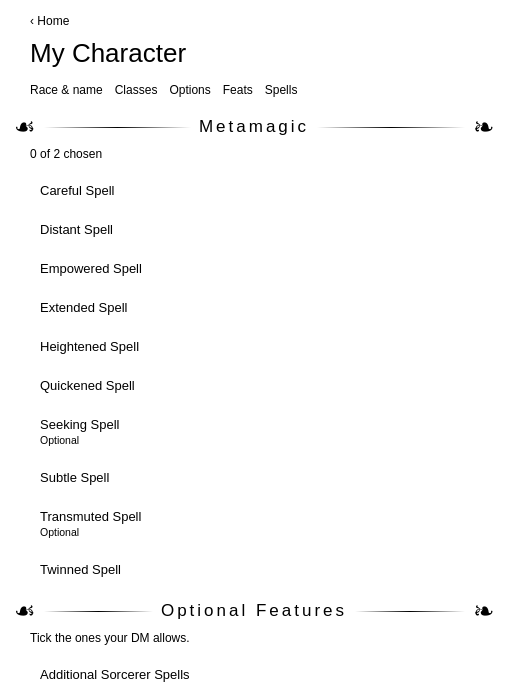
Scenario: options step picks metamagic
The width and height of the screenshot is (510, 699).
expect the text "0 of 2 chosen" is shown: met, box [30,147,102,161]
Click the button "Quickened Spell" at (87, 386), box [30,368,478,403]
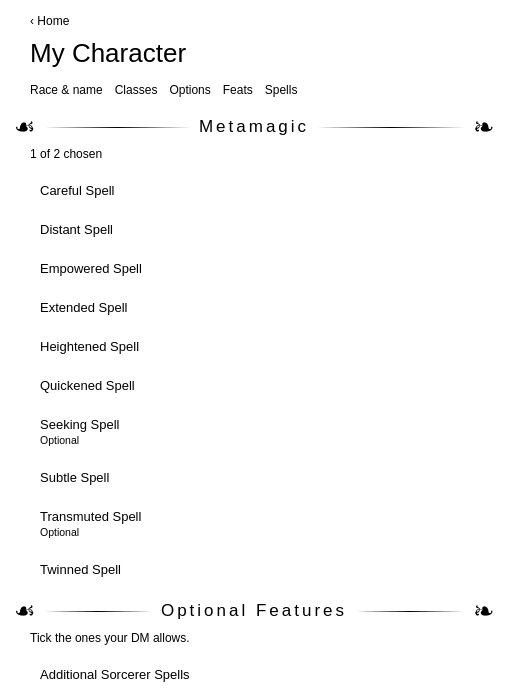
Click the button "Twinned Spell" at (80, 570), box [30,552,478,587]
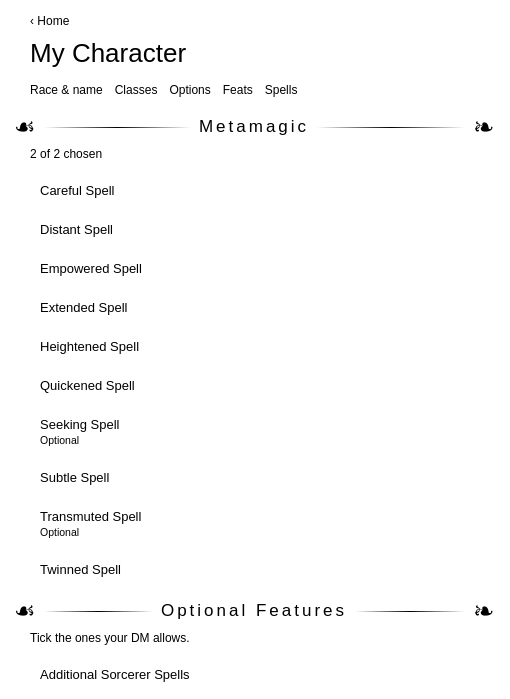
Click the button "Subtle Spell" at (75, 478), box [30,460,478,495]
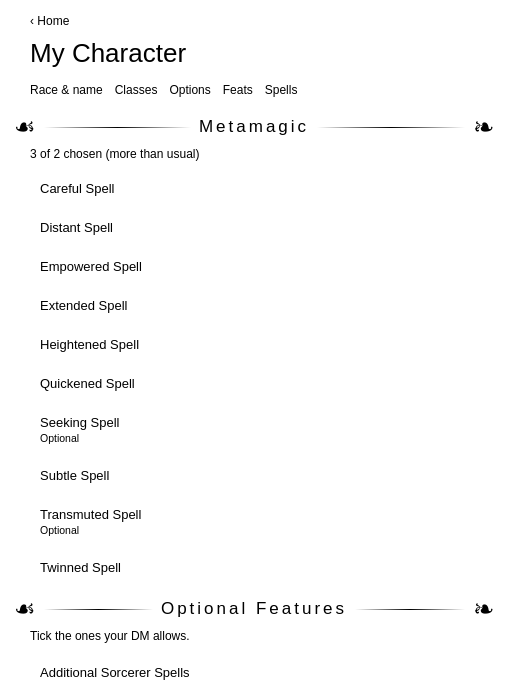
expect the text "3 of 2 chosen (more than usual)" is shown: met, box [30,147,200,161]
